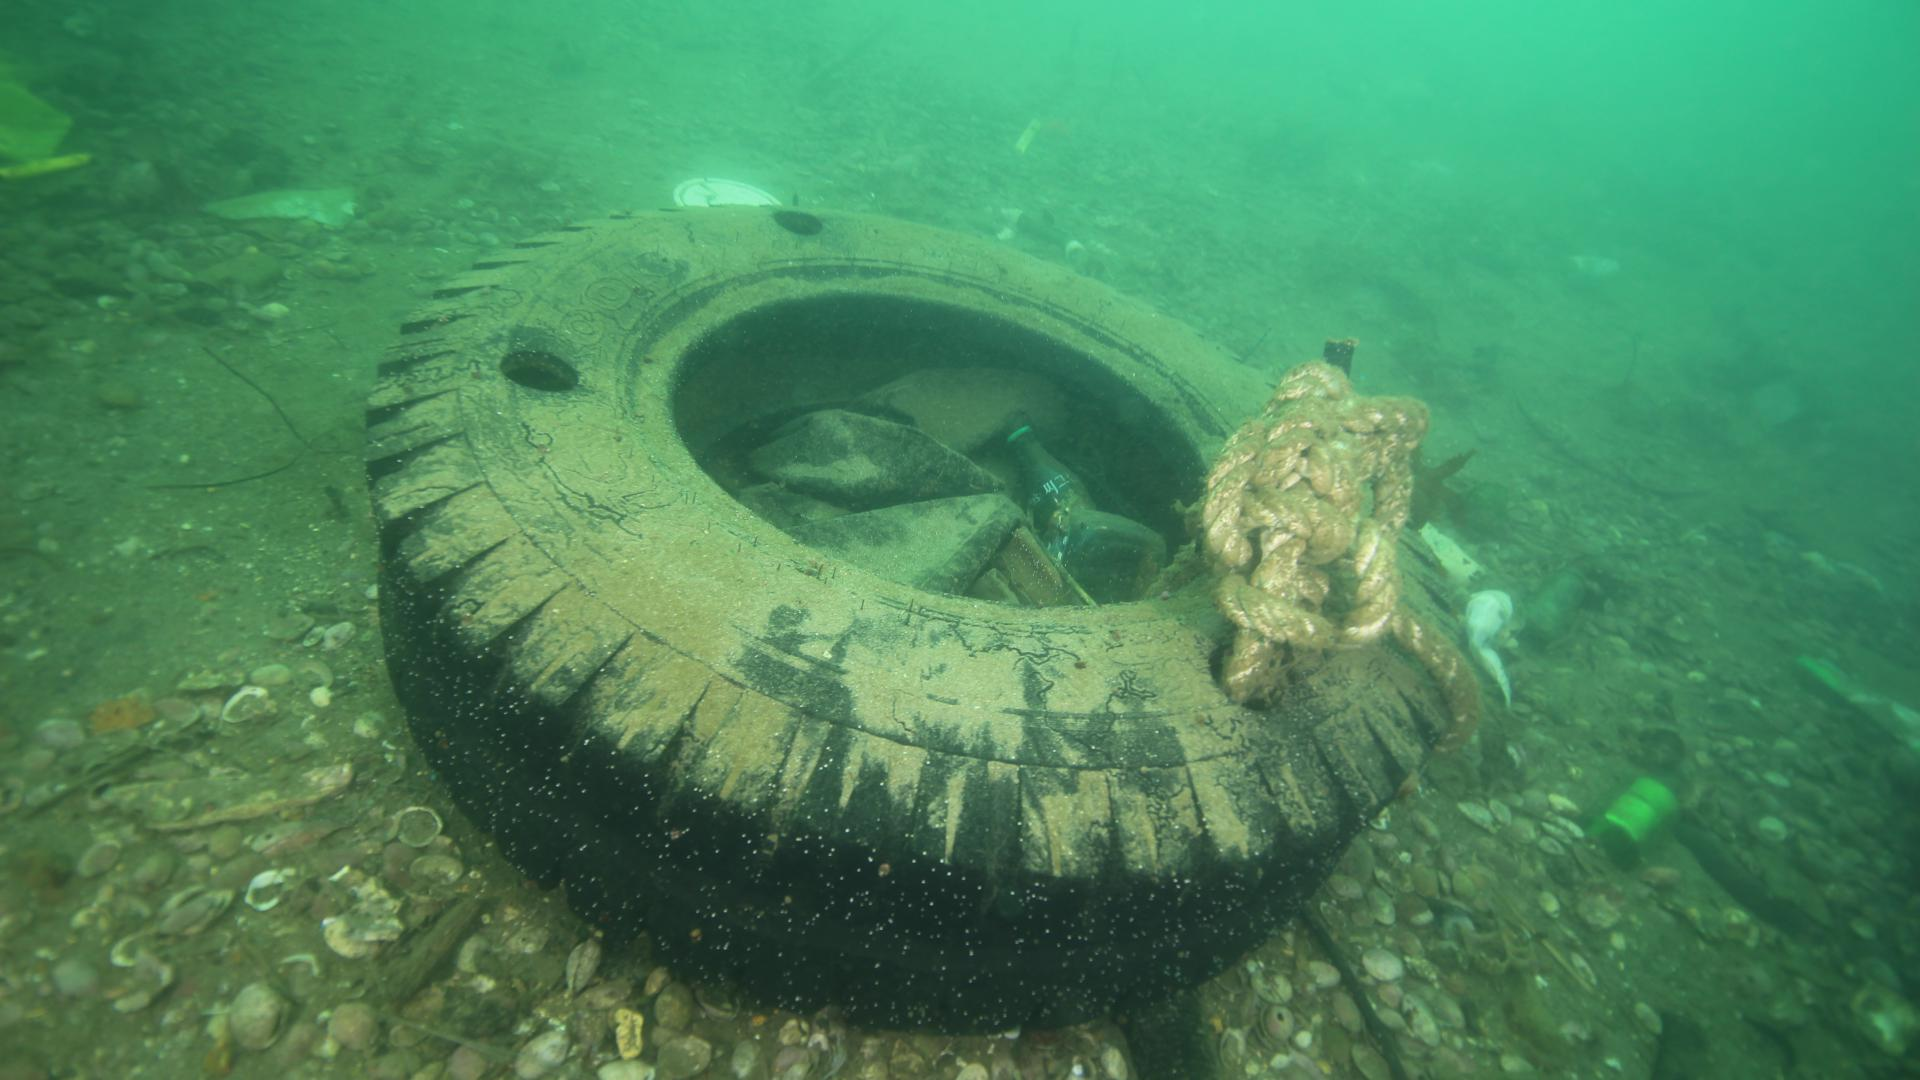bundle of ropes: (1195, 332, 1482, 760)
tire: (357, 196, 1477, 1035)
